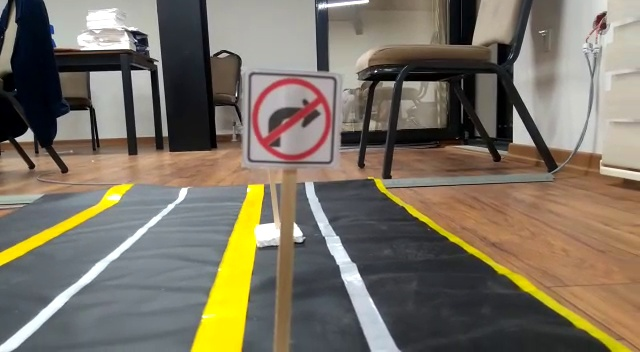saga_donulmez: (248, 72, 336, 164)
